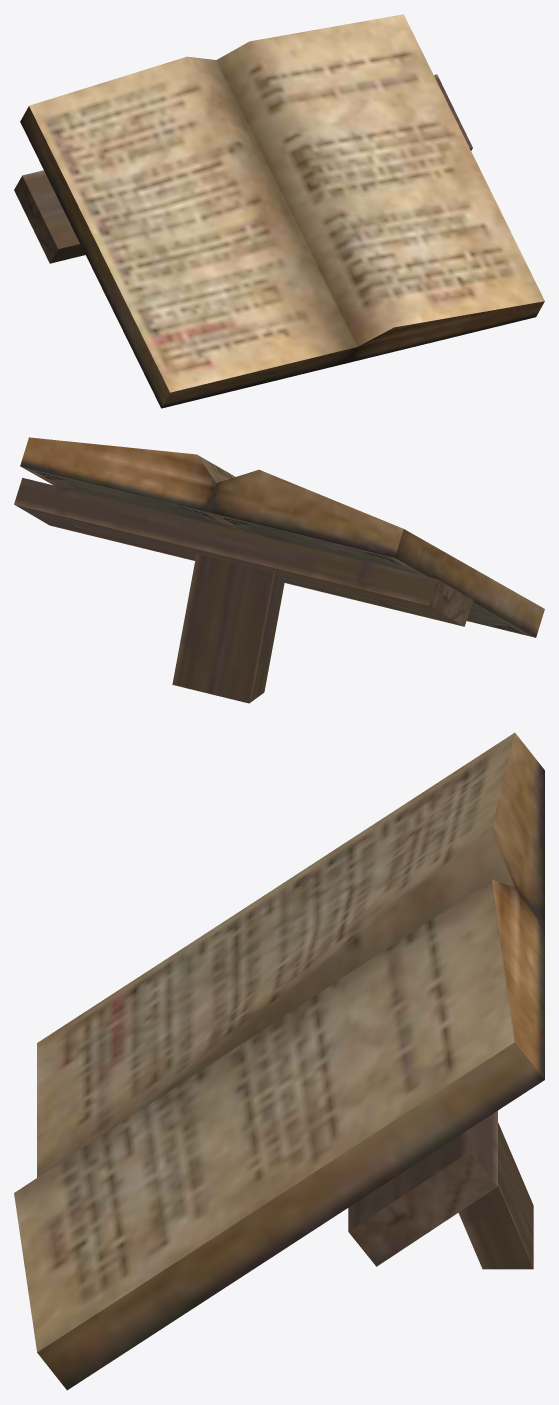
Rendered from Book.fbx.
3 views of the same model, one above another, from view 1: azimuth 30°, elevation 25°; view 2: azimuth 150°, elevation 25°; view 3: azimuth 270°, elevation 25° (orthographic). The views are drawn at different scales.
Visible parts, largest first — view 1: polySurface1162; view 2: polySurface1162; view 3: polySurface1162.
Part boxes in pixels (bbox=[...]): polySurface1162: bbox=[14, 14, 544, 408]; polySurface1162: bbox=[14, 437, 544, 703]; polySurface1162: bbox=[14, 732, 544, 1390].
Size of the model in its own units: 0.646 by 0.3337 by 0.4231.
